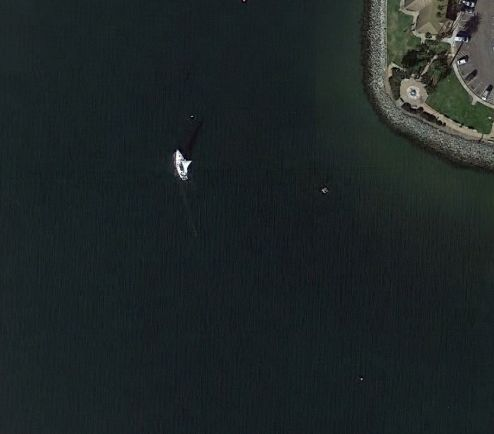boat: (170, 149, 196, 186)
